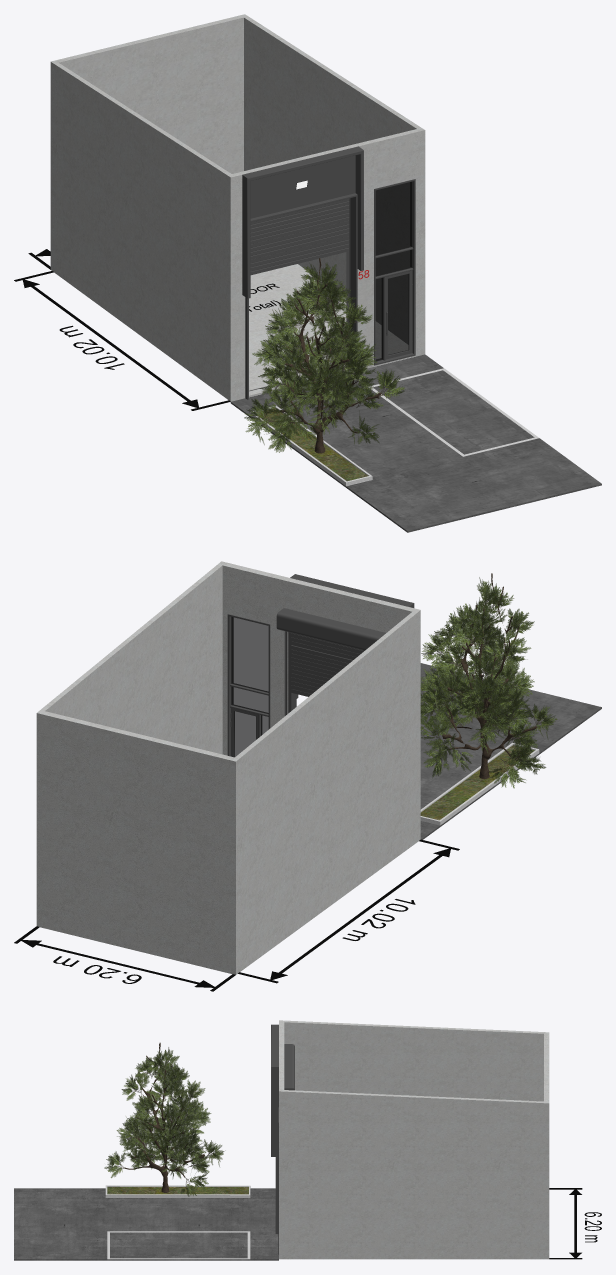
The model's file is Without_Mezzanine.glb.
The picture shows the model from 3 angles, top to bottom: view 1: azimuth 30°, elevation 25°; view 2: azimuth 150°, elevation 25°; view 3: azimuth 270°, elevation 25°; orthographic projection. The views are drawn at different scales.
Parts seen in each view (by area): view 1: Object1746170105, Box2131647076, Box2131646542, Object1746168793, Object1834019083, Object1834019082, DIM_Line_001; view 2: Object1746170105, Object1746168793, Box2131646542, Box2131647076, Object1834019083, DIM_Line_001, DIM_Line_002; view 3: Object1746170105, Box2131647076, Object1746168793, Box2131646542, Object1834019083, Object1834019082, DIM_Line_002.
Part boxes in pixels (box(x1,y1,x2,y2)): Object1746170105: box(50, 14, 425, 401); Box2131647076: box(230, 354, 601, 532); Box2131646542: box(242, 146, 415, 399); Object1746168793: box(244, 258, 404, 453); Object1834019083: box(249, 405, 372, 486); Object1834019082: box(368, 368, 539, 456); DIM_Line_001: box(14, 271, 230, 410); Object1746170105: box(36, 561, 420, 974); Object1746168793: box(420, 573, 557, 788); Box2131646542: box(227, 574, 414, 757); Box2131647076: box(420, 663, 601, 839); Object1834019083: box(420, 742, 539, 825); DIM_Line_001: box(238, 839, 459, 983); DIM_Line_002: box(14, 926, 235, 991); Object1746170105: box(279, 1020, 549, 1259); Box2131647076: box(14, 1188, 278, 1260); Object1746168793: box(104, 1042, 224, 1196); Box2131646542: box(271, 1024, 294, 1254); Object1834019083: box(105, 1185, 250, 1197); Object1834019082: box(107, 1231, 250, 1259); DIM_Line_002: box(549, 1188, 582, 1259).
Bounding box in the file's own units: 8.33 × 7.08 × 22.19.
Materials: 18 (8 with a texture image).
